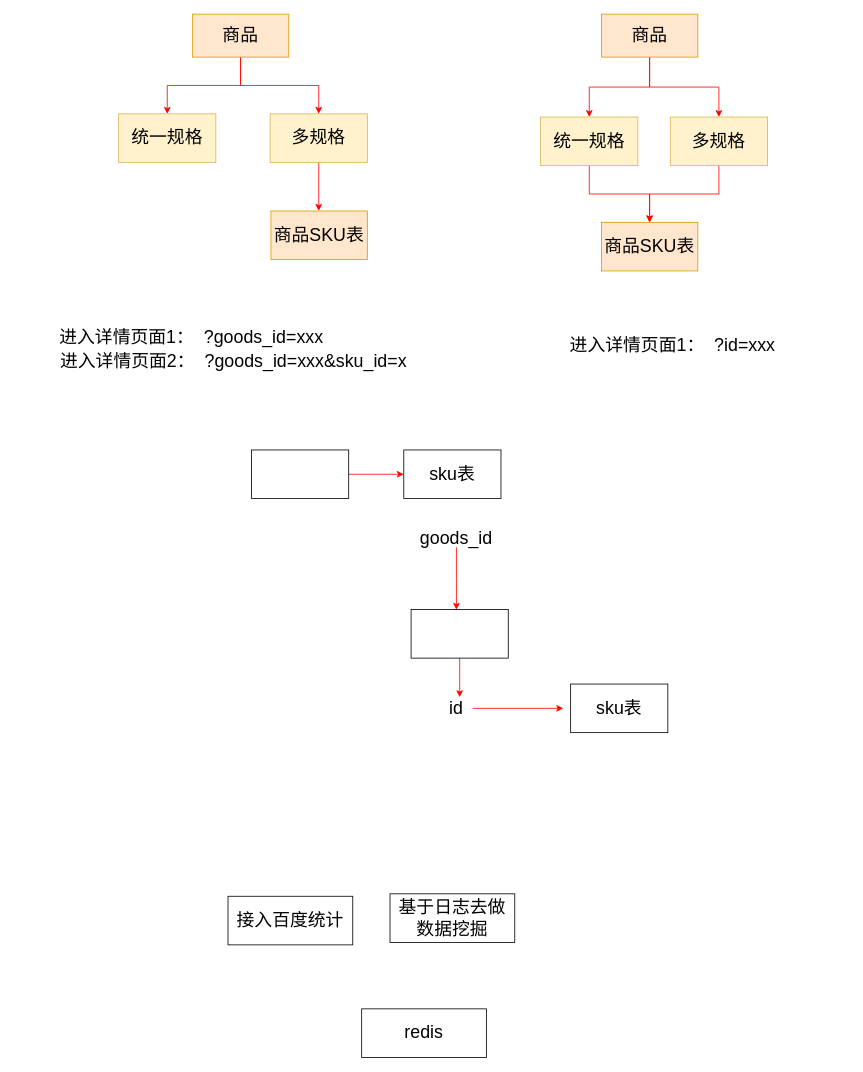
The diagram is 863 pixels wide and 1072 high, and some of its shapes have lost their labels. The shapes that lost their labels are listed below. From the top down, each one's centre as x and y in pixels, then its label:
(300,474): sku_id
(459,633): goods
